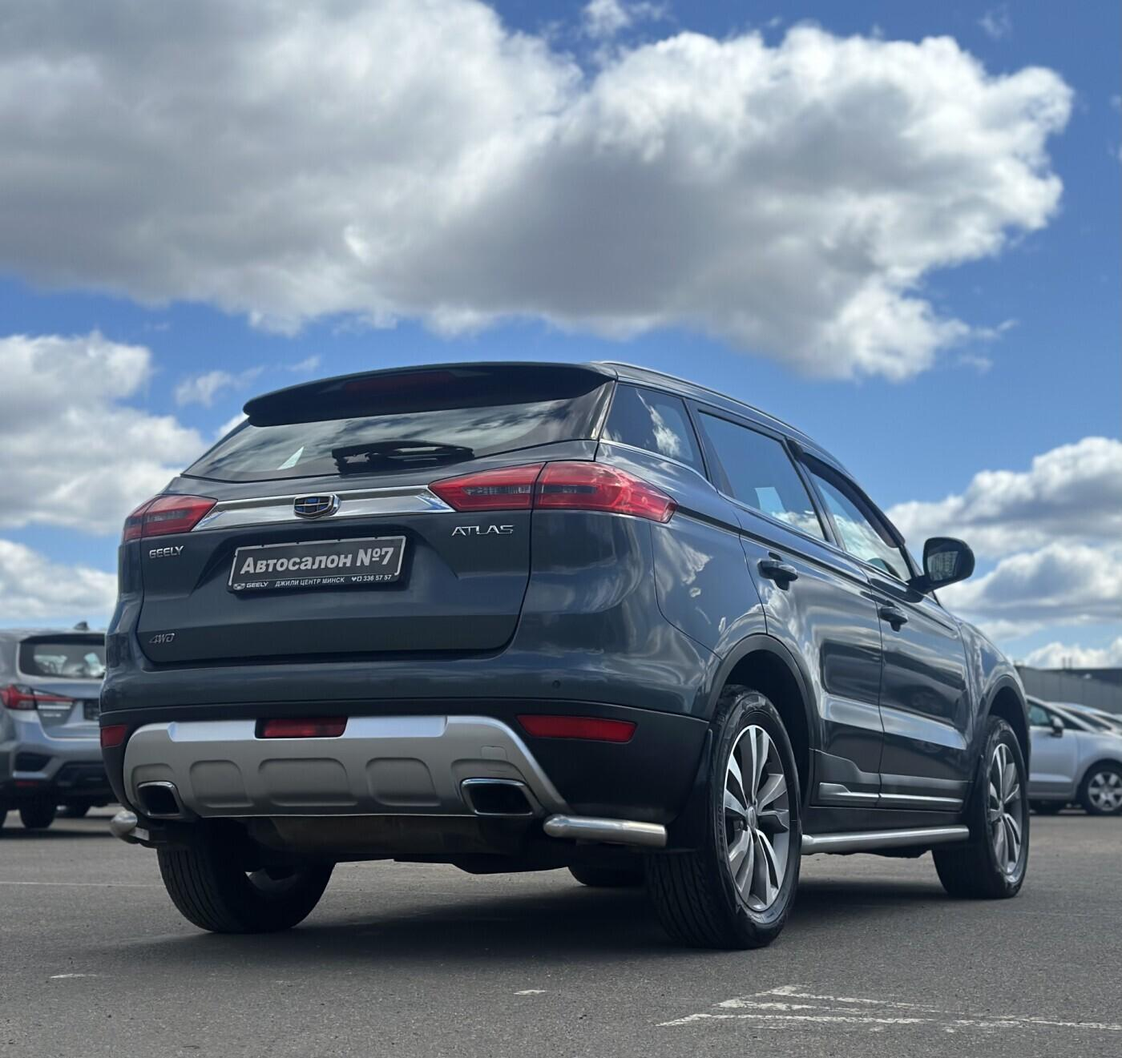Atlas_2016-2023: (98, 351, 1037, 953)
